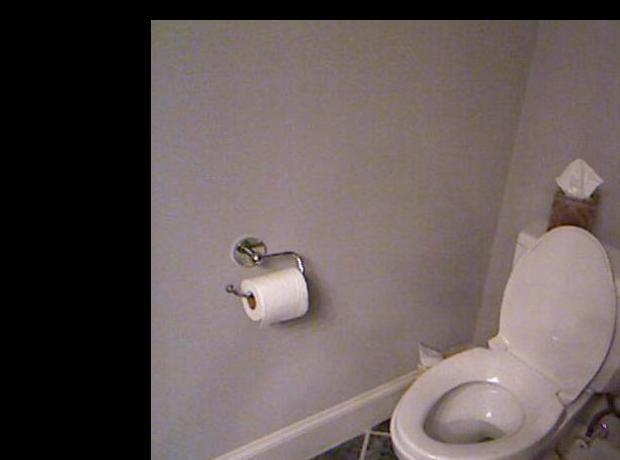Sanitario: (365, 224, 620, 460)
